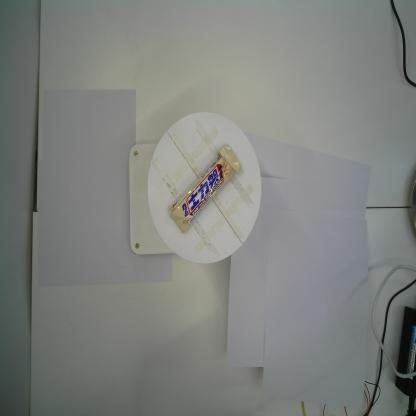Chocolate: (168, 141, 243, 238)
